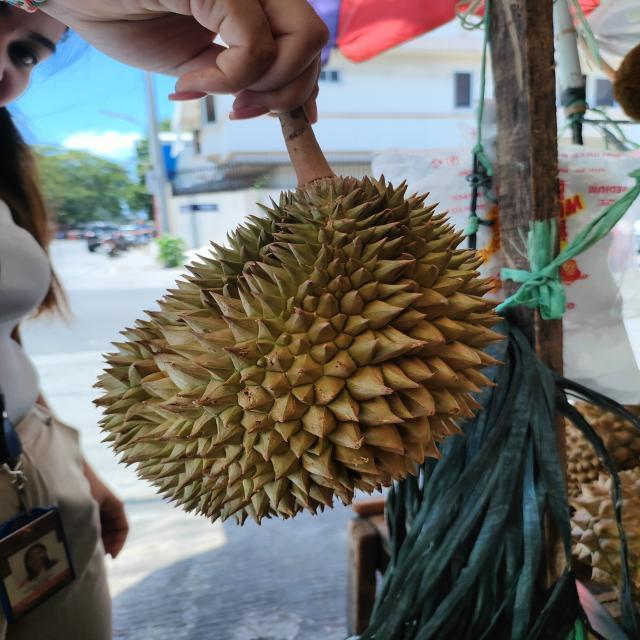mature: (87, 175, 508, 528)
